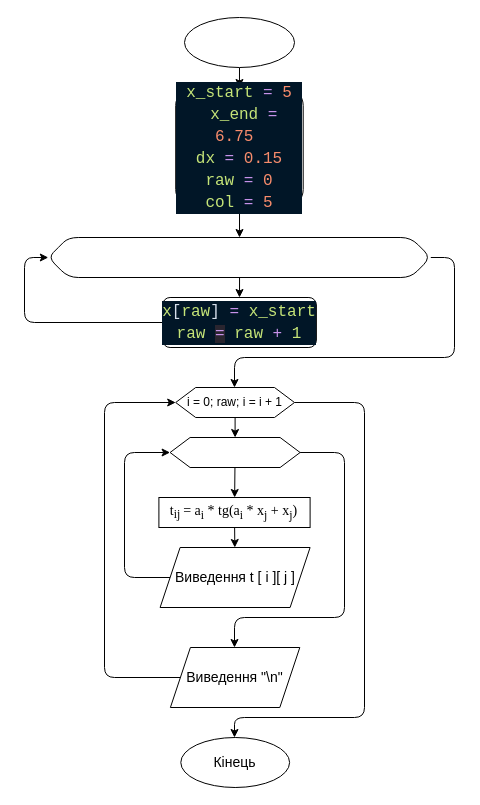
Some shapes in this 480 by 805 pixel diagram are drawn without their labels. The shapes that lost their labels are listed below. From the top down, each one's centre as x and y in pixels, then its label:
the point at 239,42: Початок
the point at 239,257: x_start = 5 ; x_end + dx ; x_start = x_start + dx
the point at 234,452: j = 0; col; j = j+ 1
